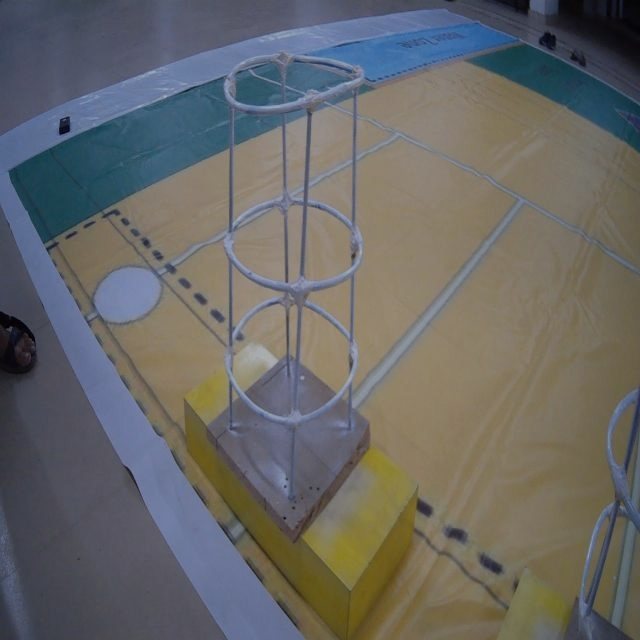silo: (212, 47, 365, 526)
